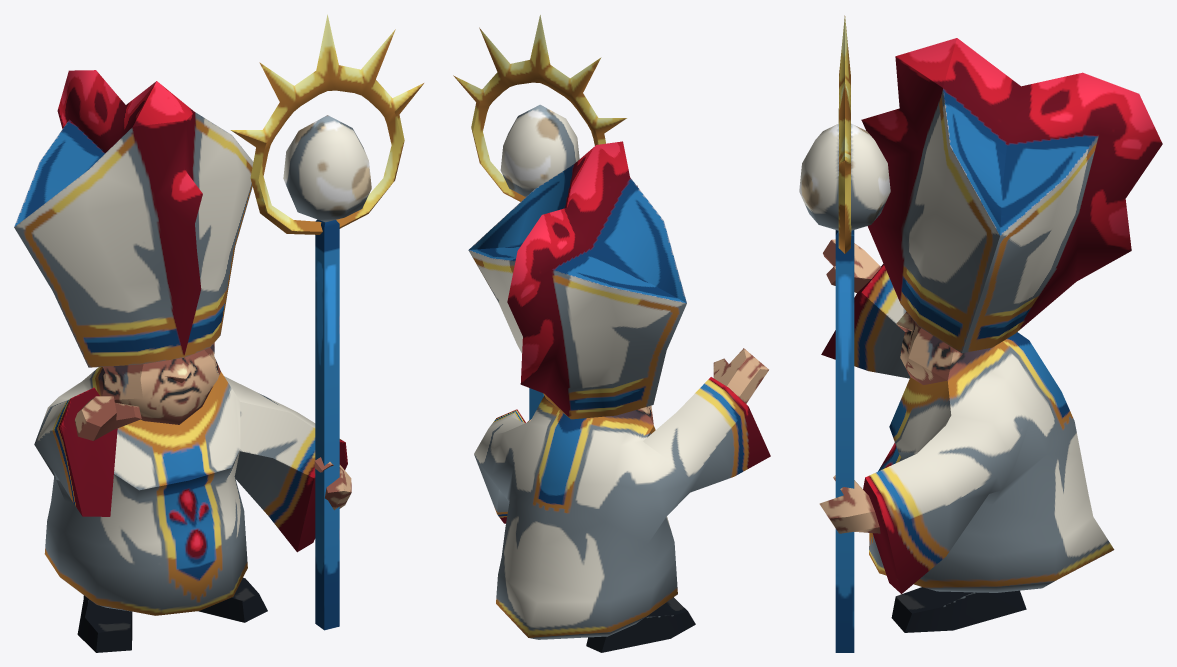
File: Zelote_Morpher.fbx
3 views of the same model, side by side, from view 1: azimuth 30°, elevation 25°; view 2: azimuth 150°, elevation 25°; view 3: azimuth 270°, elevation 25° (orthographic). The views are drawn at different scales.
Visible parts, largest first — view 1: Morpher_Pretre; view 2: Morpher_Pretre; view 3: Morpher_Pretre.
Part boxes in pixels (x1,y1,x2,y2): Morpher_Pretre: (14,14,423,652); Morpher_Pretre: (453,15,770,652); Morpher_Pretre: (799,15,1162,652).
Bounding box in the file's own units: 136 × 228 × 119.
1 material, 1 textured.
